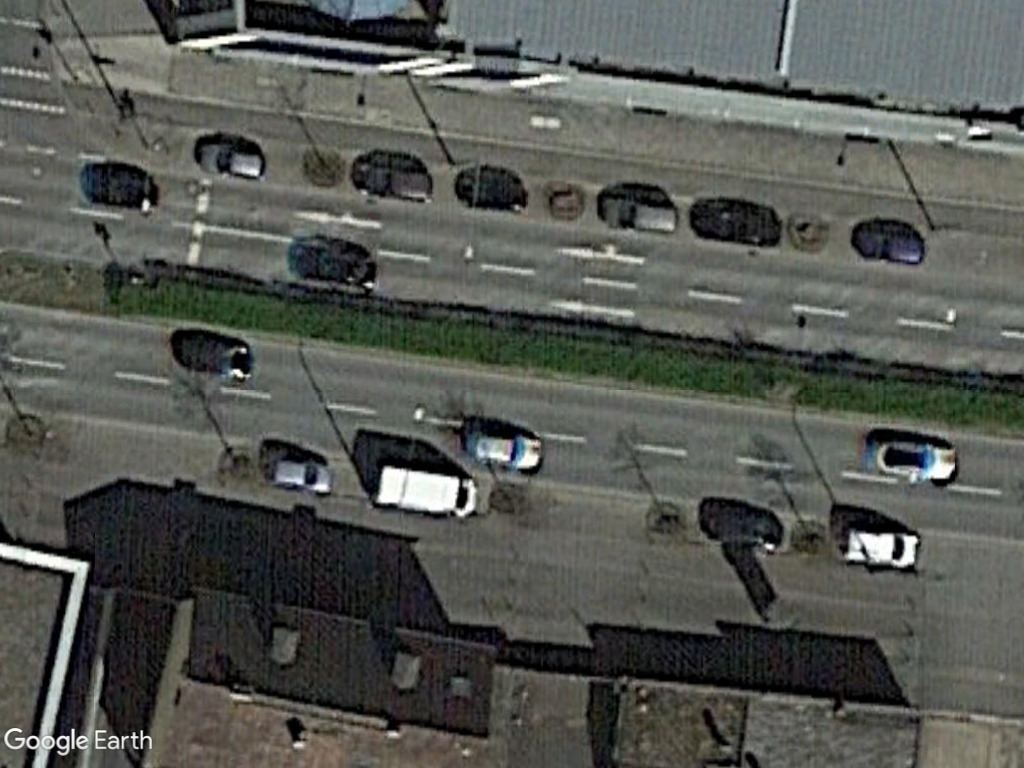car: (196, 139, 275, 183), (263, 454, 338, 496)
van: (368, 458, 483, 523)
